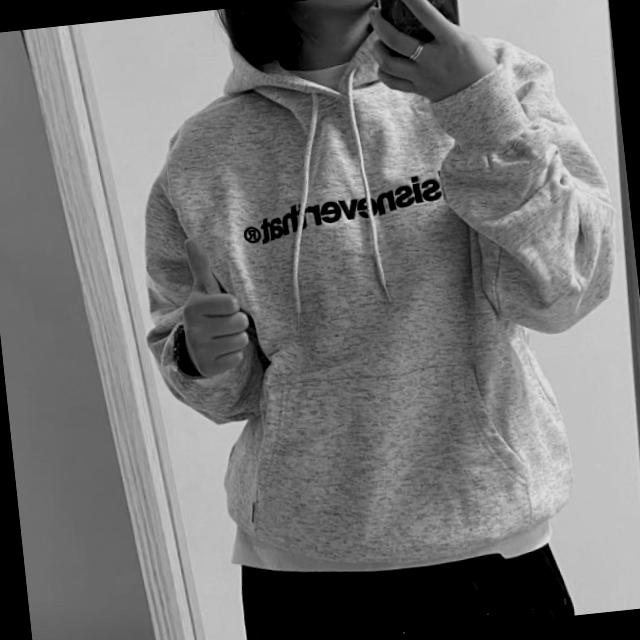jacket: (119, 5, 640, 593)
slacks: (238, 516, 576, 640)
